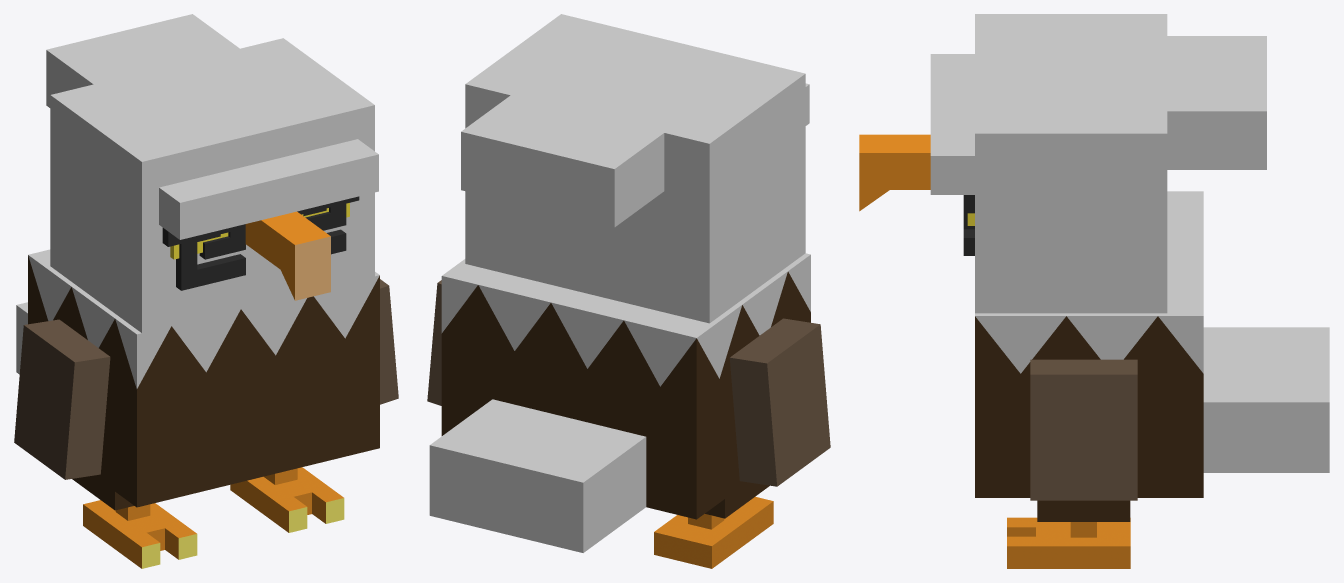
3 views of the same model, side by side, from view 1: azimuth 30°, elevation 25°; view 2: azimuth 150°, elevation 25°; view 3: azimuth 270°, elevation 25° (orthographic). The views are drawn at different scales.
Visible parts, largest first — view 1: Ch_21_Head, Ch_21, Ch_21_Wing_L, Ch_21_Leg_L, Ch_21_Leg_R, Ch_21_Eye_03_L, Ch_21_Wing_R, Ch_21_Eye_03_R, Ch_21_Eye_02, Ch_21_Eye_01; view 2: Ch_21_Head, Ch_21, Ch_21_Wing_L, Ch_21_Leg_L, Ch_21_Wing_R; view 3: Ch_21_Head, Ch_21, Ch_21_Wing_R, Ch_21_Leg_R.
Part boxes in pixels (bbox=[...]): Ch_21_Head: bbox=[46, 14, 378, 332]; Ch_21: bbox=[16, 249, 379, 507]; Ch_21_Wing_L: bbox=[14, 319, 110, 479]; Ch_21_Leg_L: bbox=[72, 475, 197, 568]; Ch_21_Leg_R: bbox=[230, 467, 344, 532]; Ch_21_Eye_03_L: bbox=[176, 224, 245, 290]; Ch_21_Wing_R: bbox=[380, 279, 398, 404]; Ch_21_Eye_03_R: bbox=[298, 199, 346, 254]; Ch_21_Eye_02: bbox=[162, 196, 359, 246]; Ch_21_Eye_01: bbox=[170, 203, 349, 259]; Ch_21_Head: bbox=[461, 14, 809, 323]; Ch_21: bbox=[429, 253, 810, 552]; Ch_21_Wing_L: bbox=[729, 318, 830, 486]; Ch_21_Leg_L: bbox=[654, 482, 773, 568]; Ch_21_Wing_R: bbox=[427, 280, 441, 405]; Ch_21_Head: bbox=[859, 14, 1266, 313]; Ch_21: bbox=[975, 191, 1329, 497]; Ch_21_Wing_R: bbox=[1030, 359, 1137, 500]; Ch_21_Leg_R: bbox=[1007, 500, 1130, 568].
Size of the model in its own units: 8.64 by 10.43 by 10.03.
